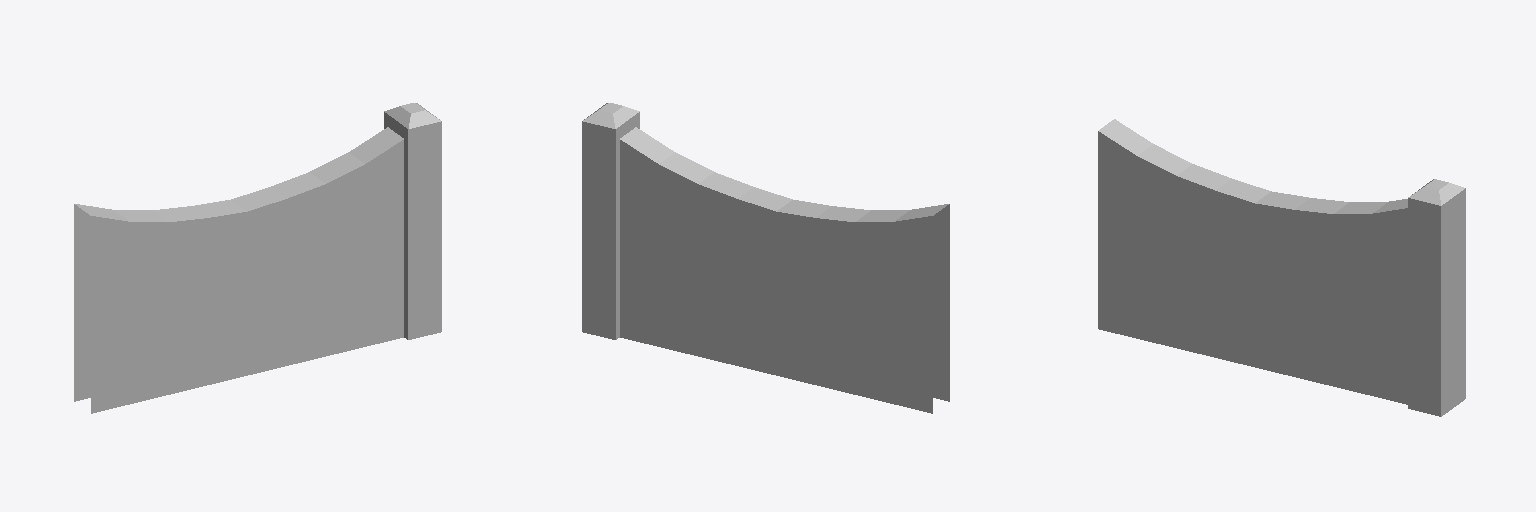
The model's file is wall.obj.
The picture shows the model from 3 angles: view 1: azimuth 30°, elevation 25°; view 2: azimuth 150°, elevation 25°; view 3: azimuth 330°, elevation 25°; orthographic projection.
Visible parts, largest first — view 1: Mesh_Cube.001; view 2: Mesh_Cube.001; view 3: Mesh_Cube.001.
Part boxes in pixels (left/top/right/bottom): Mesh_Cube.001: left=74, top=103, right=441, bottom=413; Mesh_Cube.001: left=582, top=103, right=949, bottom=413; Mesh_Cube.001: left=1098, top=119, right=1465, bottom=416.
Size of the model in its own units: 6.07 by 3.66 by 0.7424.